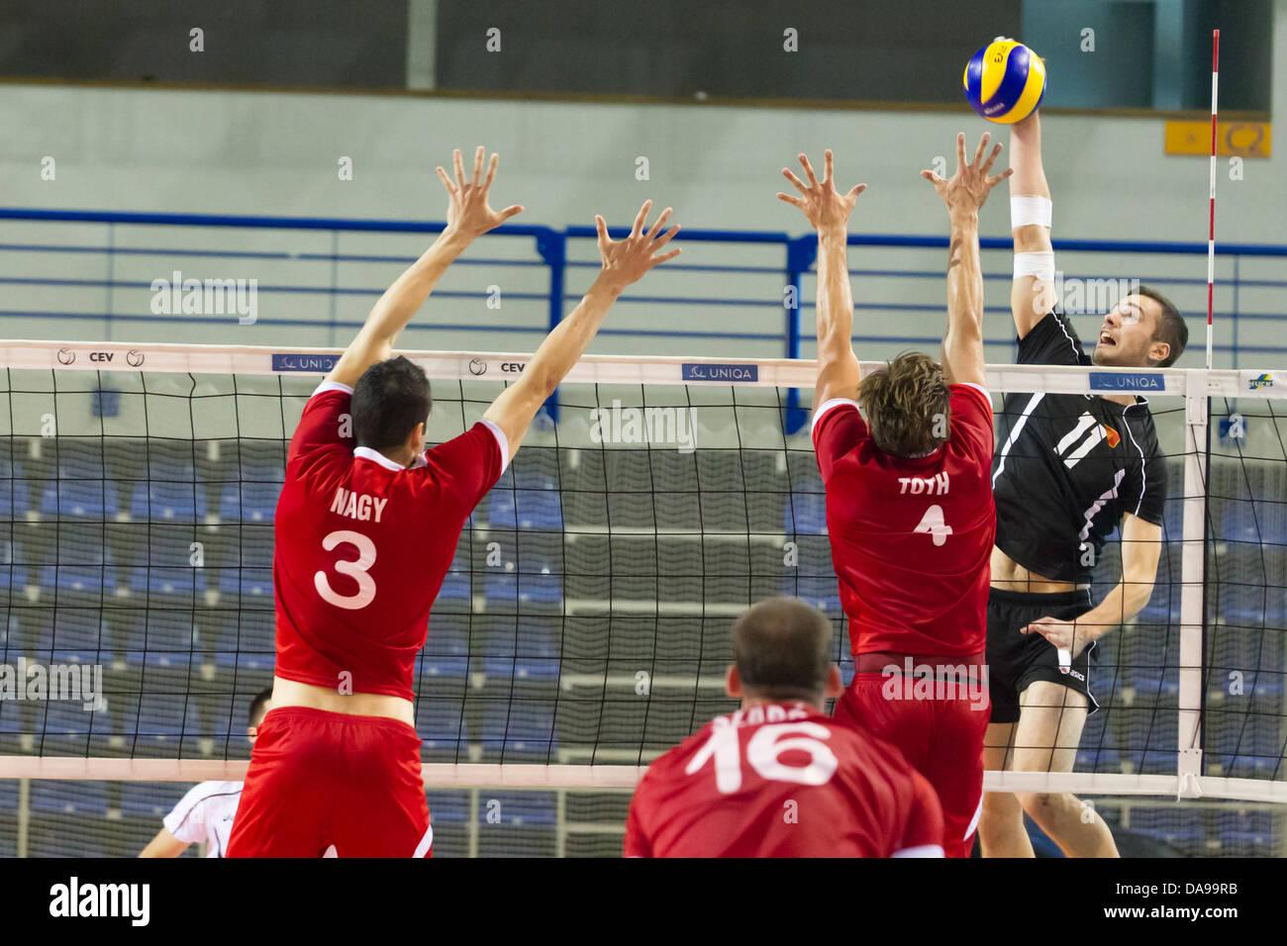ballon_volley: (960, 37, 1047, 127)
